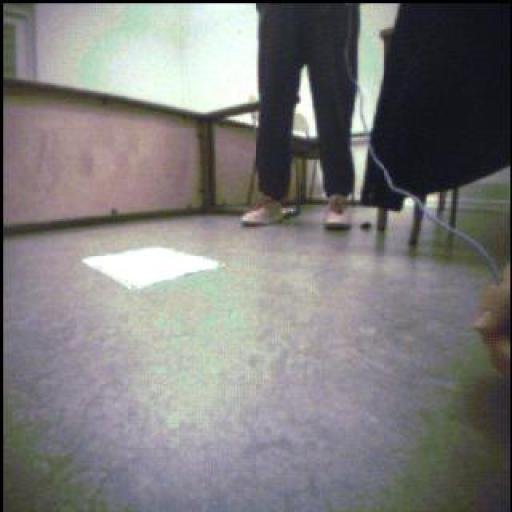Pad: (84, 248, 222, 291)
